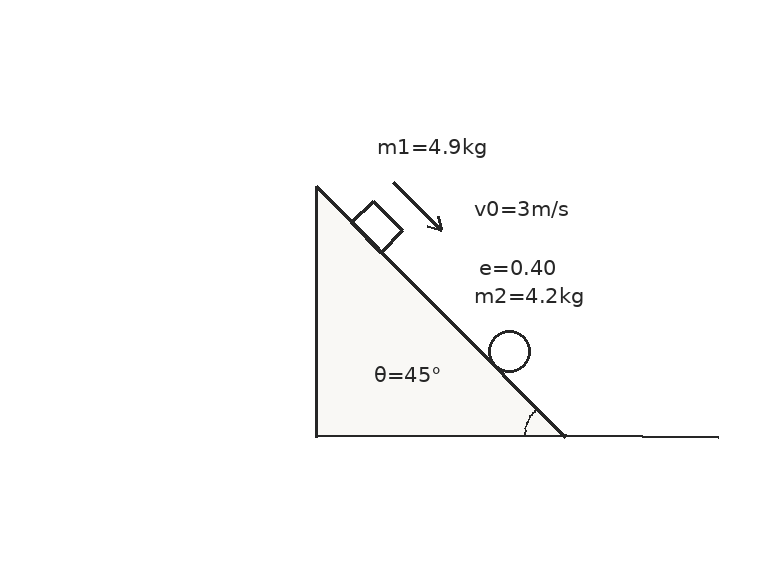ball: (486, 328, 532, 374)
block: (349, 198, 404, 254)
ramp: (313, 184, 567, 438)
